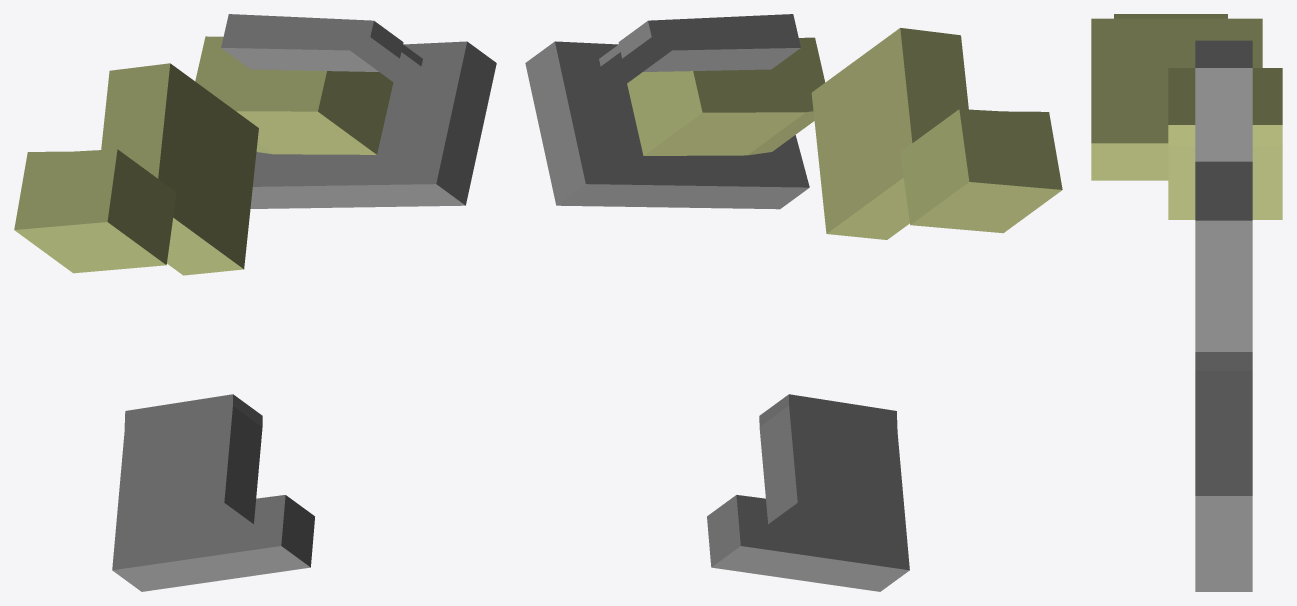
3 views of the same model, side by side, from view 1: azimuth 30°, elevation 25°; view 2: azimuth 150°, elevation 25°; view 3: azimuth 270°, elevation 25° (orthographic). The views are drawn at different scales.
Visible parts, largest first — view 1: 0_1_2_0_0_2_2_0_0; view 2: 0_1_2_0_0_2_2_0_0; view 3: 0_1_2_0_0_2_2_0_0.
Boxes of the visible parts, bbox=[...] form: 0_1_2_0_0_2_2_0_0: bbox=[14, 14, 496, 591]; 0_1_2_0_0_2_2_0_0: bbox=[525, 14, 1062, 591]; 0_1_2_0_0_2_2_0_0: bbox=[1091, 14, 1282, 591].
Size of the model in its own units: 27.29 by 30.5 by 10.04.
